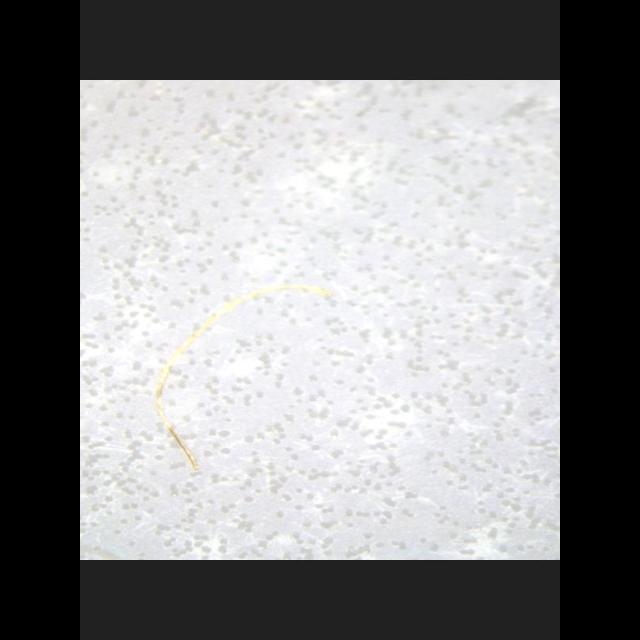Fibre: (152, 284, 332, 472)
